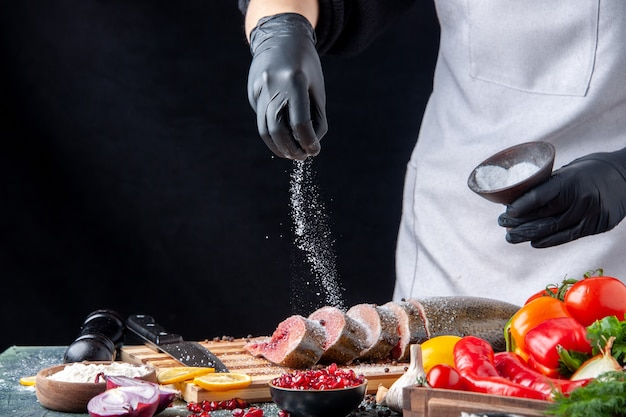knife: (124, 312, 232, 375)
